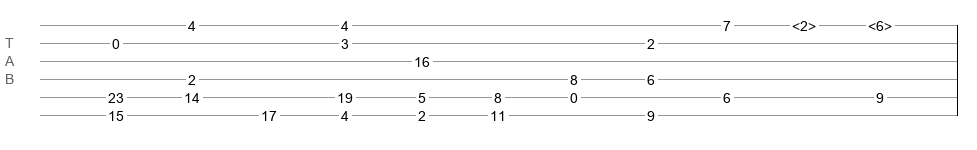0: (112, 36, 120, 46), (570, 90, 578, 100)
11: (490, 108, 506, 118)
14: (184, 90, 200, 100)
15: (108, 108, 124, 118)
16: (414, 54, 430, 64)
17: (261, 108, 277, 118)
19: (337, 90, 353, 100)
2: (188, 72, 196, 82), (418, 108, 426, 118), (647, 36, 655, 46)
23: (108, 90, 124, 100)
3: (341, 36, 349, 46)
4: (188, 18, 196, 28), (341, 108, 349, 118), (341, 18, 349, 28)
5: (418, 90, 426, 100)
6: (647, 72, 655, 82), (723, 90, 731, 100)
7: (723, 18, 731, 28)
8: (494, 90, 502, 100), (570, 72, 578, 82)
9: (647, 108, 655, 118), (876, 90, 884, 100)
harmonic: (792, 18, 816, 28), (868, 18, 892, 28)
